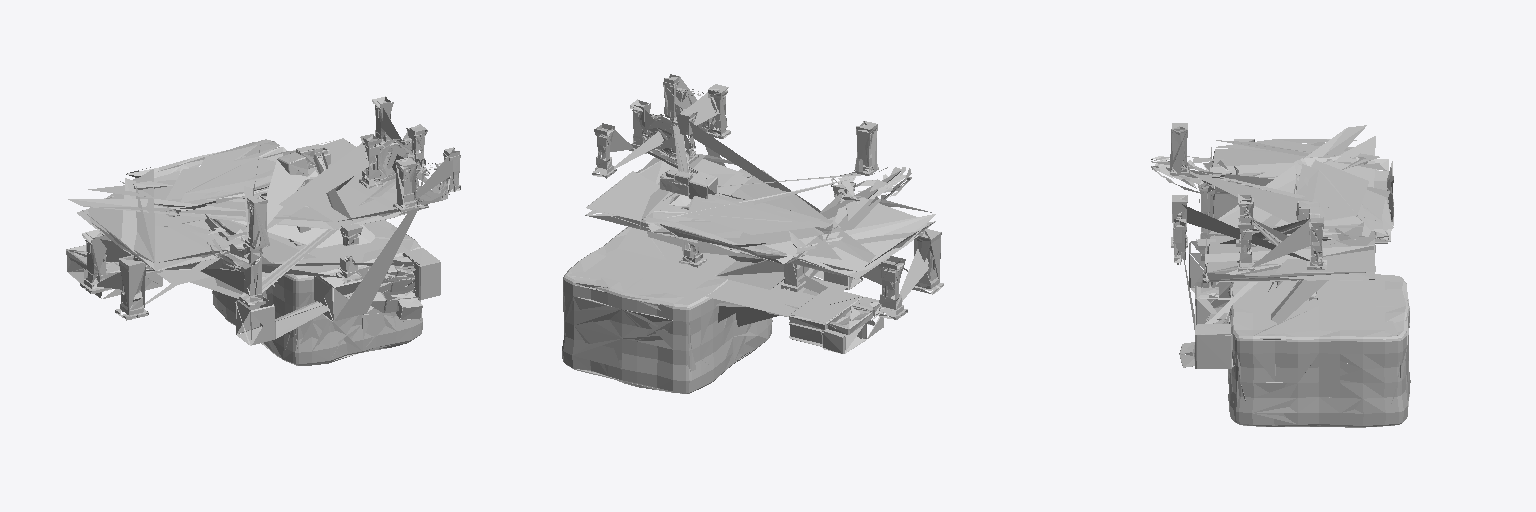
Rendered from cellRuins_CollapsedPlazaEntrance_Proxy-sharedassets3.assets-646.obj.
3 renders of one model, left to right at view 1: azimuth 30°, elevation 25°; view 2: azimuth 150°, elevation 25°; view 3: azimuth 270°, elevation 25°, orthographic.
Parts seen in each view (by area): view 1: cellRuins_CollapsedPlazaEntrance_Proxy_1, cellRuins_CollapsedPlazaEntrance_Proxy_3, cellRuins_CollapsedPlazaEntrance_Proxy_4, cellRuins_CollapsedPlazaEntrance_Proxy_2; view 2: cellRuins_CollapsedPlazaEntrance_Proxy_1, cellRuins_CollapsedPlazaEntrance_Proxy_4, cellRuins_CollapsedPlazaEntrance_Proxy_3, cellRuins_CollapsedPlazaEntrance_Proxy_2, cellRuins_CollapsedPlazaEntrance_Proxy_0; view 3: cellRuins_CollapsedPlazaEntrance_Proxy_1, cellRuins_CollapsedPlazaEntrance_Proxy_4, cellRuins_CollapsedPlazaEntrance_Proxy_3, cellRuins_CollapsedPlazaEntrance_Proxy_2, cellRuins_CollapsedPlazaEntrance_Proxy_0.
Boxes of the visible parts, x1=… form: cellRuins_CollapsedPlazaEntrance_Proxy_1: x1=66, y1=102, x2=440, y2=314; cellRuins_CollapsedPlazaEntrance_Proxy_3: x1=80, y1=96, x2=460, y2=365; cellRuins_CollapsedPlazaEntrance_Proxy_4: x1=158, y1=220, x2=422, y2=365; cellRuins_CollapsedPlazaEntrance_Proxy_2: x1=157, y1=219, x2=420, y2=365; cellRuins_CollapsedPlazaEntrance_Proxy_1: x1=585, y1=82, x2=941, y2=353; cellRuins_CollapsedPlazaEntrance_Proxy_4: x1=562, y1=227, x2=847, y2=393; cellRuins_CollapsedPlazaEntrance_Proxy_3: x1=563, y1=74, x2=943, y2=392; cellRuins_CollapsedPlazaEntrance_Proxy_2: x1=563, y1=227, x2=847, y2=392; cellRuins_CollapsedPlazaEntrance_Proxy_0: x1=578, y1=248, x2=727, y2=347; cellRuins_CollapsedPlazaEntrance_Proxy_1: x1=1151, y1=123, x2=1393, y2=368; cellRuins_CollapsedPlazaEntrance_Proxy_4: x1=1228, y1=274, x2=1410, y2=427; cellRuins_CollapsedPlazaEntrance_Proxy_3: x1=1170, y1=123, x2=1409, y2=426; cellRuins_CollapsedPlazaEntrance_Proxy_2: x1=1228, y1=276, x2=1410, y2=426; cellRuins_CollapsedPlazaEntrance_Proxy_0: x1=1319, y1=276, x2=1409, y2=382.
Size of the model in its own units: 83.91 by 55.72 by 61.99.